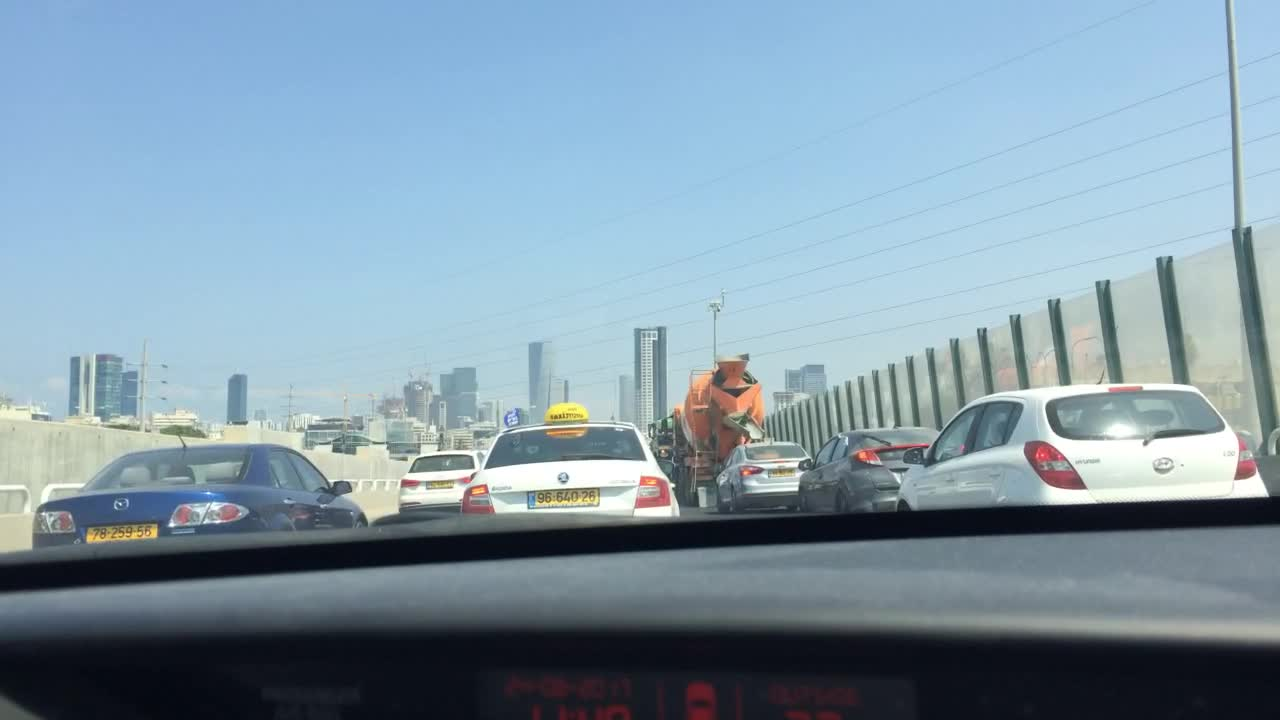car: (899, 379, 1272, 512), (33, 442, 368, 549), (458, 400, 680, 520), (797, 423, 945, 515), (711, 436, 810, 512), (397, 448, 486, 519)
traffic sign: (503, 408, 524, 426)
truck: (644, 348, 764, 515)
